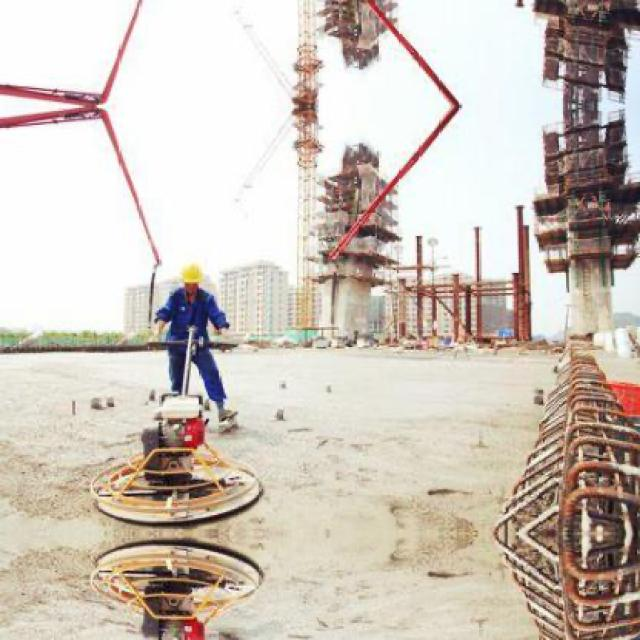con casco: (150, 238, 236, 305)
